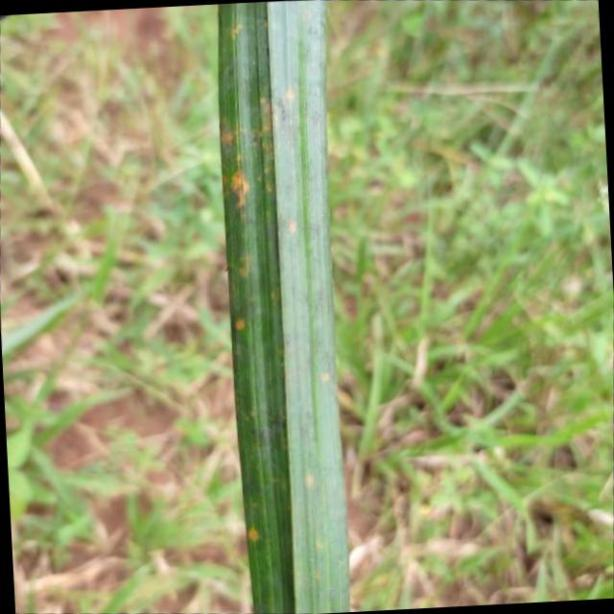Kalium: (213, 0, 350, 614)
